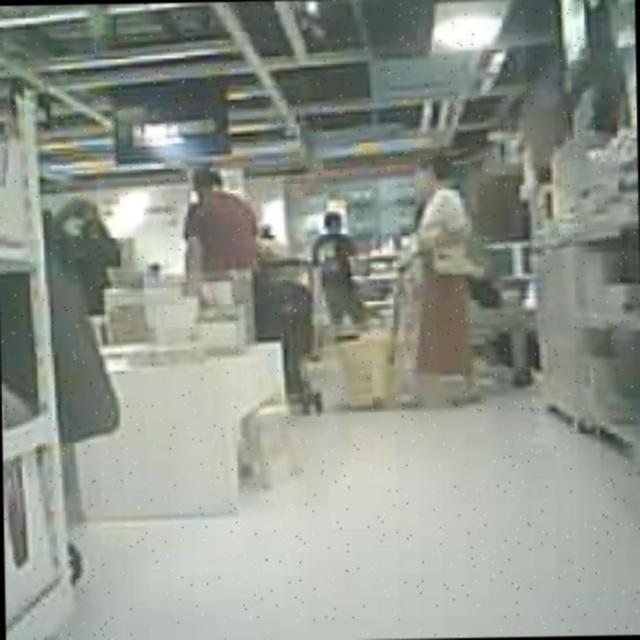person: (402, 161, 490, 403), (188, 170, 262, 294), (308, 210, 370, 327)
